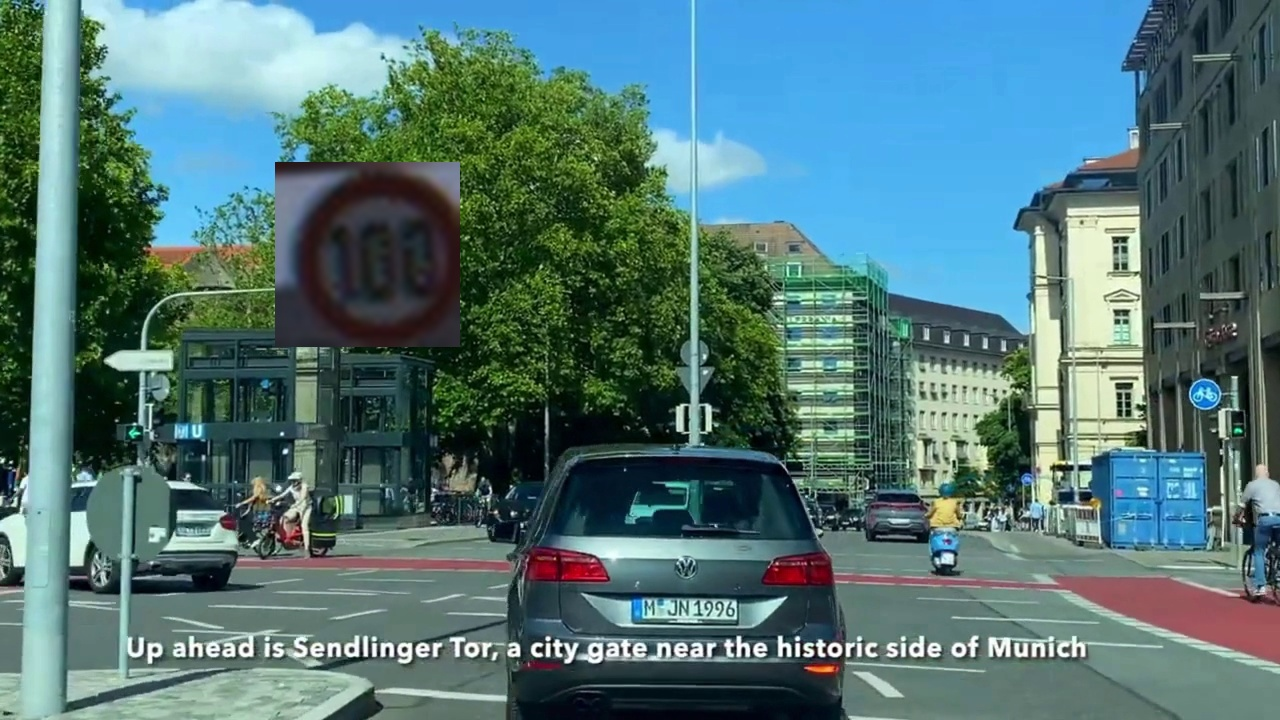Speed 100: (275, 162, 460, 347)
